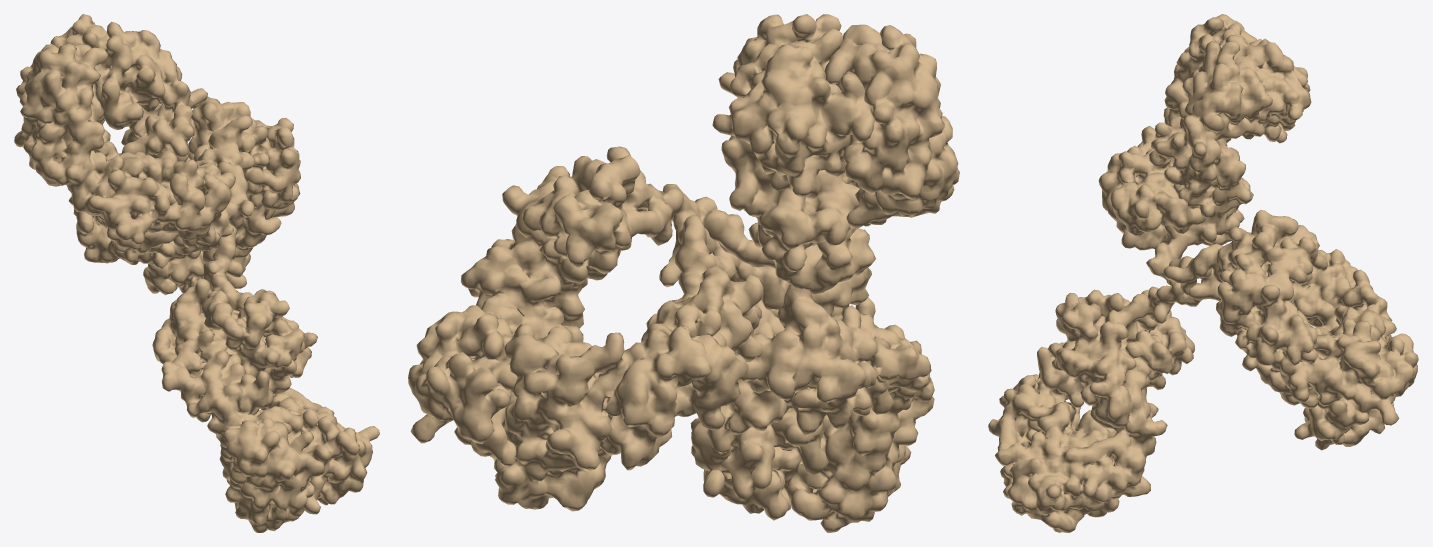
The model's file is igg.glb.
3 views of the same model, side by side, from view 1: azimuth 30°, elevation 25°; view 2: azimuth 150°, elevation 25°; view 3: azimuth 270°, elevation 25° (orthographic). The views are drawn at different scales.
Visible parts, largest first — view 1: 1IGT.pdb_D Gaussian surface, 1IGT.pdb_C Gaussian surface, 1IGT.pdb_A Gaussian surface, 1IGT.pdb_B Gaussian surface; view 2: 1IGT.pdb_D Gaussian surface, 1IGT.pdb_B Gaussian surface, 1IGT.pdb_A Gaussian surface, 1IGT.pdb_C Gaussian surface; view 3: 1IGT.pdb_D Gaussian surface, 1IGT.pdb_B Gaussian surface, 1IGT.pdb_C Gaussian surface, 1IGT.pdb_A Gaussian surface.
Part boxes in pixels (<box>): 1IGT.pdb_D Gaussian surface: <box>41,14,300,262</box>; 1IGT.pdb_C Gaussian surface: <box>14,42,235,247</box>; 1IGT.pdb_A Gaussian surface: <box>152,278,324,532</box>; 1IGT.pdb_B Gaussian surface: <box>69,196,379,514</box>; 1IGT.pdb_D Gaussian surface: <box>408,14,875,467</box>; 1IGT.pdb_B Gaussian surface: <box>454,215,871,520</box>; 1IGT.pdb_A Gaussian surface: <box>741,284,934,532</box>; 1IGT.pdb_C Gaussian surface: <box>824,24,959,229</box>; 1IGT.pdb_D Gaussian surface: <box>1146,34,1418,425</box>; 1IGT.pdb_B Gaussian surface: <box>995,246,1396,532</box>; 1IGT.pdb_C Gaussian surface: <box>1098,14,1256,250</box>; 1IGT.pdb_A Gaussian surface: <box>988,289,1194,486</box>.
Size of the model in its own units: 109 by 150 by 133.
